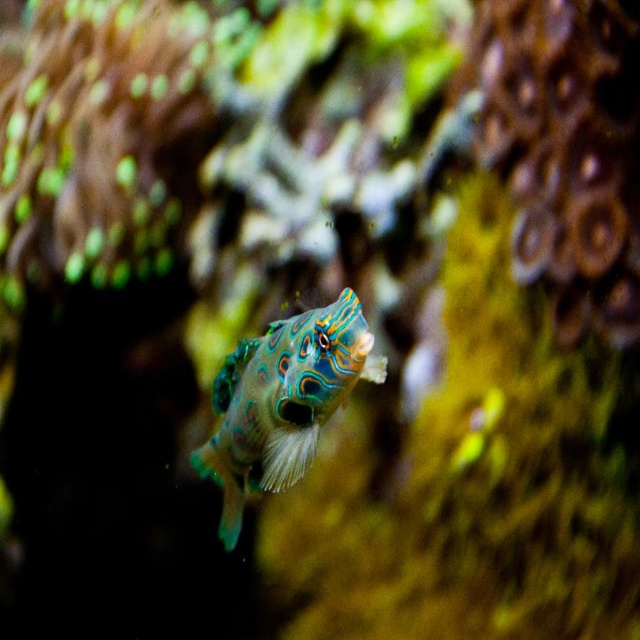Fish: (191, 294, 377, 536)
